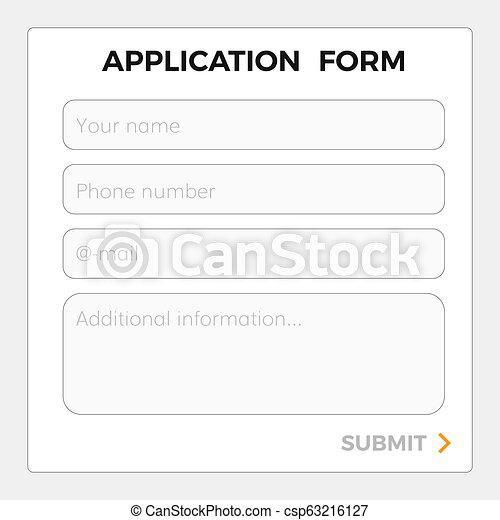input: (63, 99, 447, 151), (63, 164, 447, 216), (64, 229, 446, 281)
